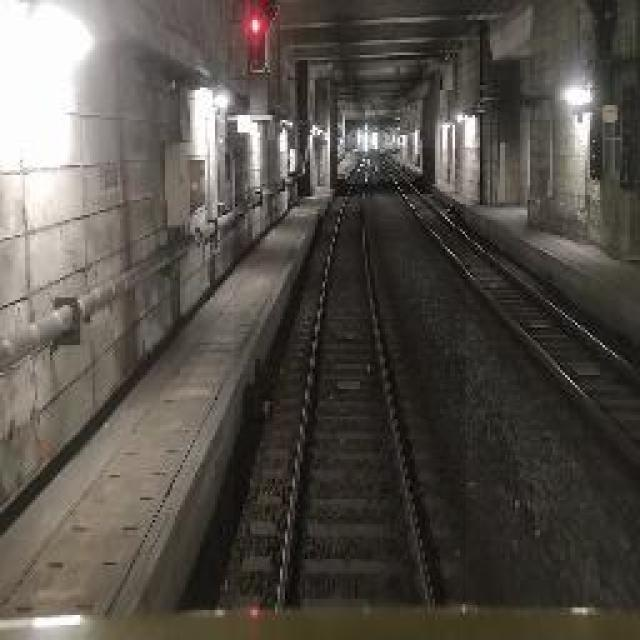rail: (235, 150, 467, 608)
